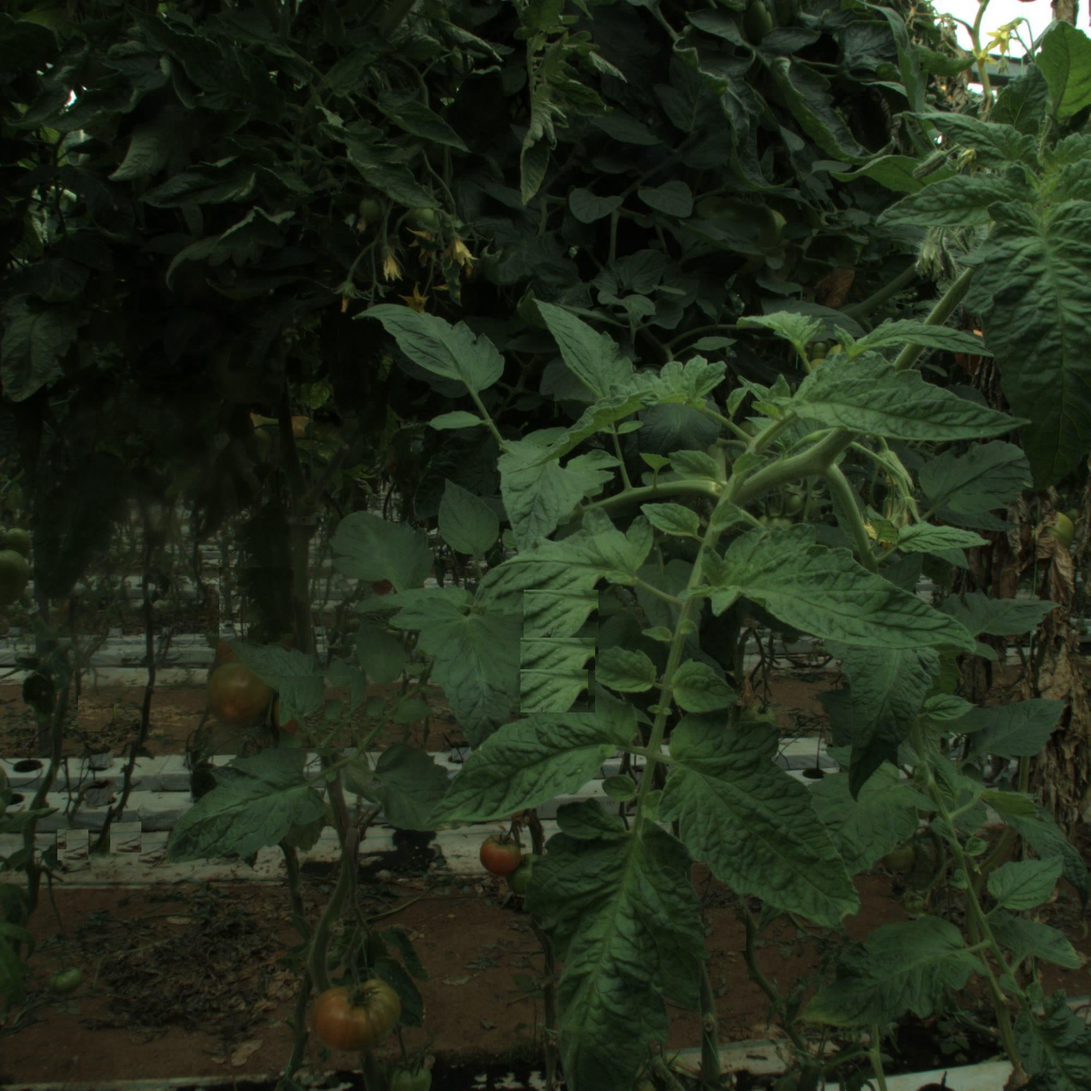fully-ripe: (480, 836, 519, 876)
semi-ripe: (317, 970, 400, 1053), (206, 663, 272, 728)
